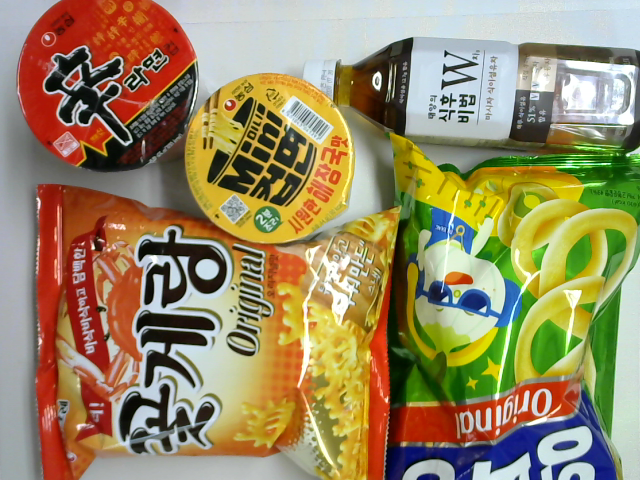Crabrang: (33, 180, 403, 480)
Hejangmini: (182, 71, 357, 244)
Oninon_Ring: (382, 127, 640, 477)
Post-meal_recipe_W_tea_500ml: (302, 36, 640, 154)
Sinramen_small: (14, 1, 199, 173)
